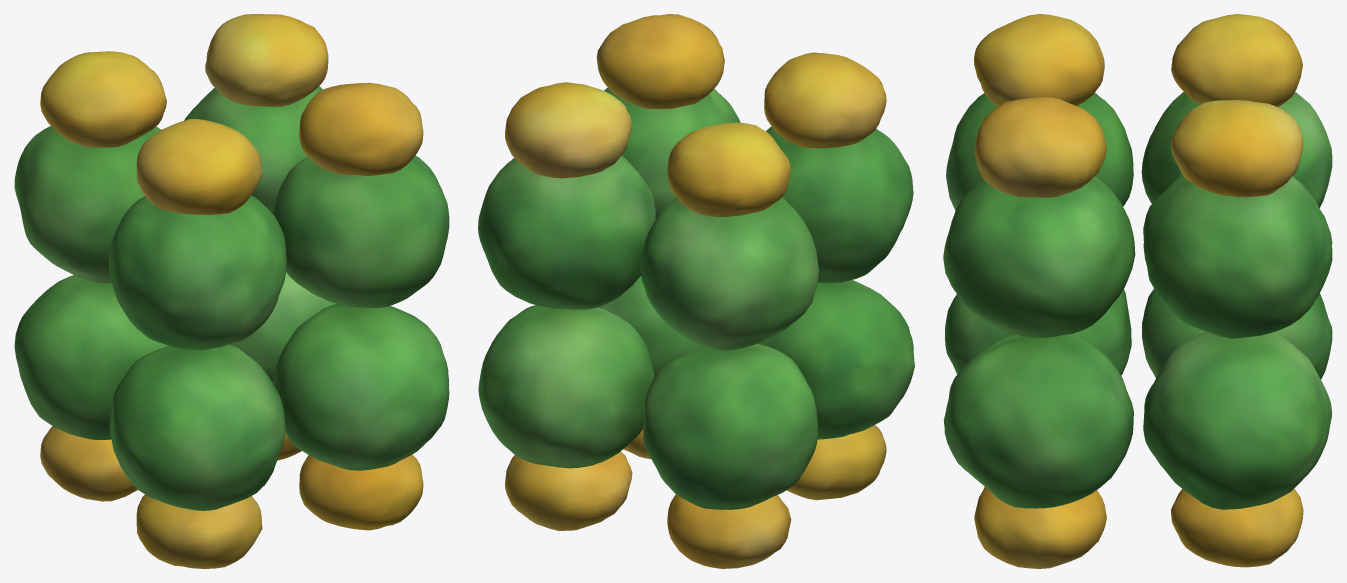
File: rubisco.glb
The picture shows the model from 3 angles, left to right: view 1: azimuth 30°, elevation 25°; view 2: azimuth 150°, elevation 25°; view 3: azimuth 270°, elevation 25°; orthographic projection. The views are drawn at different scales.
Parts seen in each view (by area): view 1: rubisco-large, rubisco-small; view 2: rubisco-large, rubisco-small; view 3: rubisco-large, rubisco-small.
Boxes of the visible parts, left/top/right/bottom form: rubisco-large: left=14, top=86, right=449, bottom=510; rubisco-small: left=40, top=14, right=423, bottom=568; rubisco-large: left=478, top=87, right=914, bottom=509; rubisco-small: left=505, top=14, right=886, bottom=568; rubisco-large: left=943, top=92, right=1332, bottom=509; rubisco-small: left=974, top=14, right=1303, bottom=568.
Size of what is drawn, in the model's own units: 1.42 by 1.82 by 1.41.
